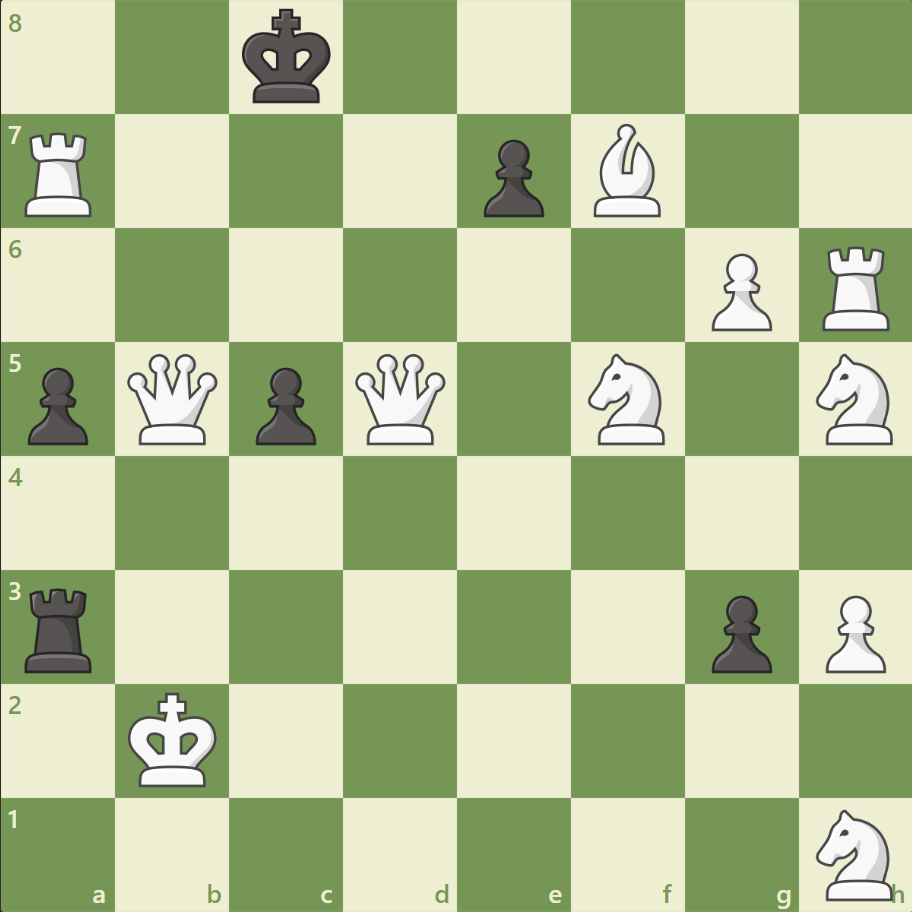B: (585, 120, 669, 222)
K: (124, 685, 224, 793)
N: (579, 348, 676, 450), (806, 348, 903, 450), (806, 802, 903, 904)
P: (701, 246, 776, 337), (815, 586, 889, 677)
Q: (124, 349, 223, 449), (351, 349, 450, 449)
R: (19, 125, 102, 222), (814, 239, 897, 336)
k: (238, 4, 338, 112)
p: (474, 132, 549, 223), (20, 359, 95, 450), (247, 359, 322, 450), (701, 586, 776, 677)
r: (19, 579, 102, 676)
